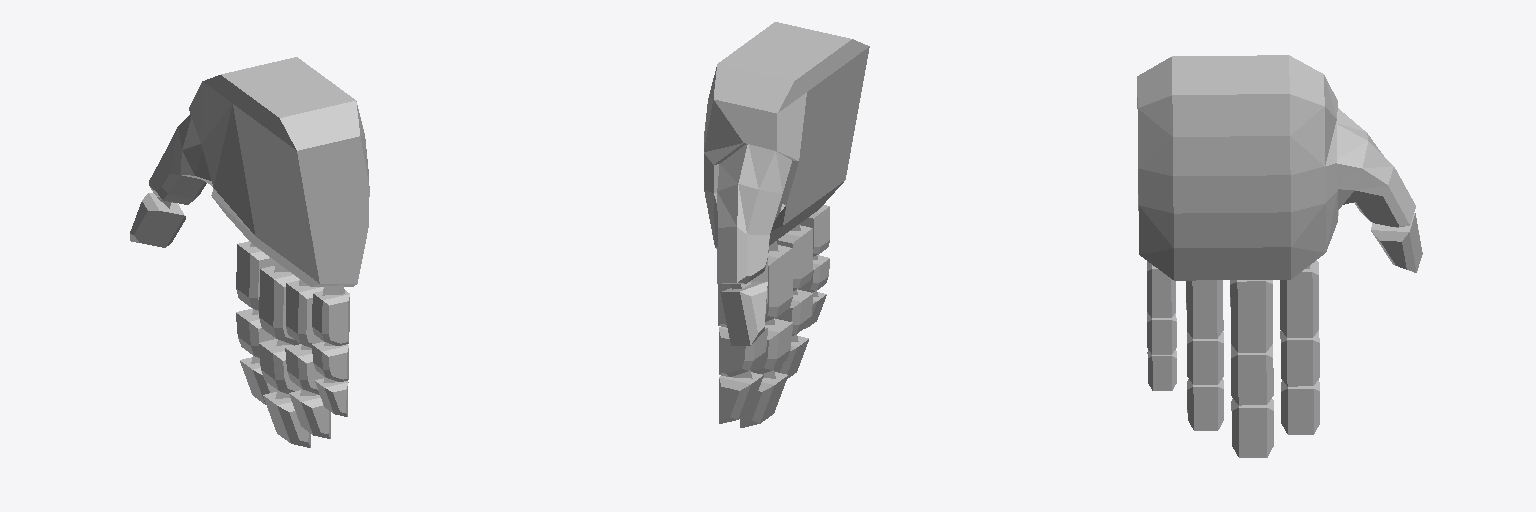
The model's file is only_hand_v4.obj.
3 renders of one model, left to right at view 1: azimuth 30°, elevation 25°; view 2: azimuth 150°, elevation 25°; view 3: azimuth 270°, elevation 25°, orthographic.
Visible parts, largest first — view 1: only_hand_v2:Robot2; view 2: only_hand_v2:Robot2; view 3: only_hand_v2:Robot2.
Part boxes in pixels (x1,y1,x2,y2): only_hand_v2:Robot2: (130, 57, 369, 447); only_hand_v2:Robot2: (704, 22, 869, 427); only_hand_v2:Robot2: (1137, 55, 1422, 457).
Size of the model in its own units: 33.34 by 99.48 by 69.35.